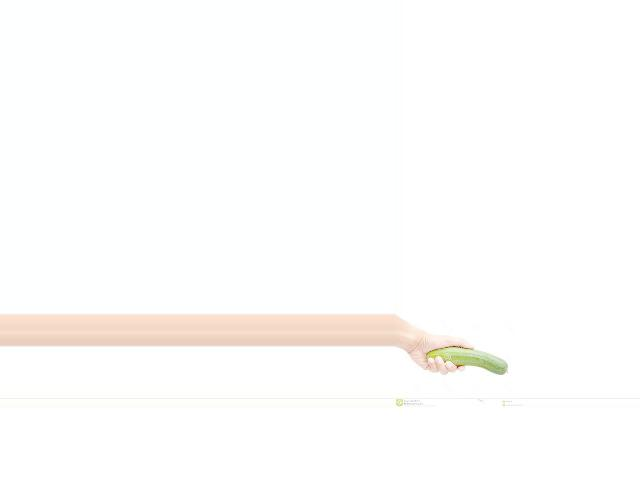cucumber: (426, 348, 508, 375)
